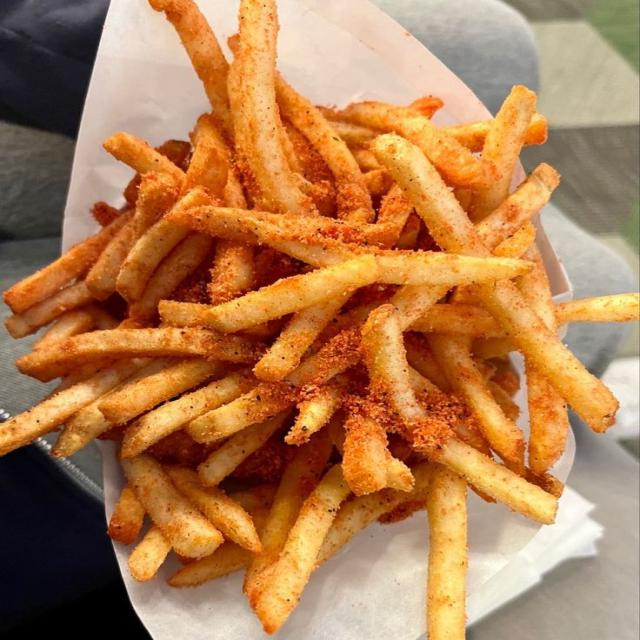potato fries: (0, 0, 638, 638)
